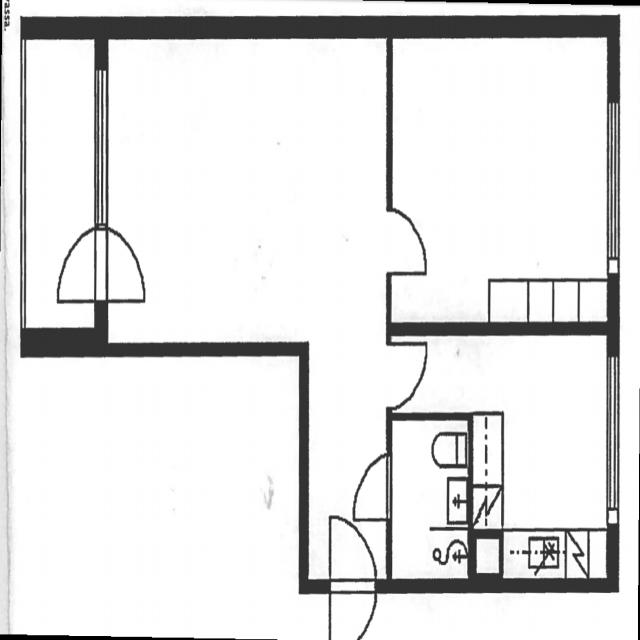door: (95, 228, 154, 302), (49, 228, 107, 302), (329, 506, 376, 592), (345, 455, 392, 519), (386, 344, 431, 406), (386, 212, 431, 273)
